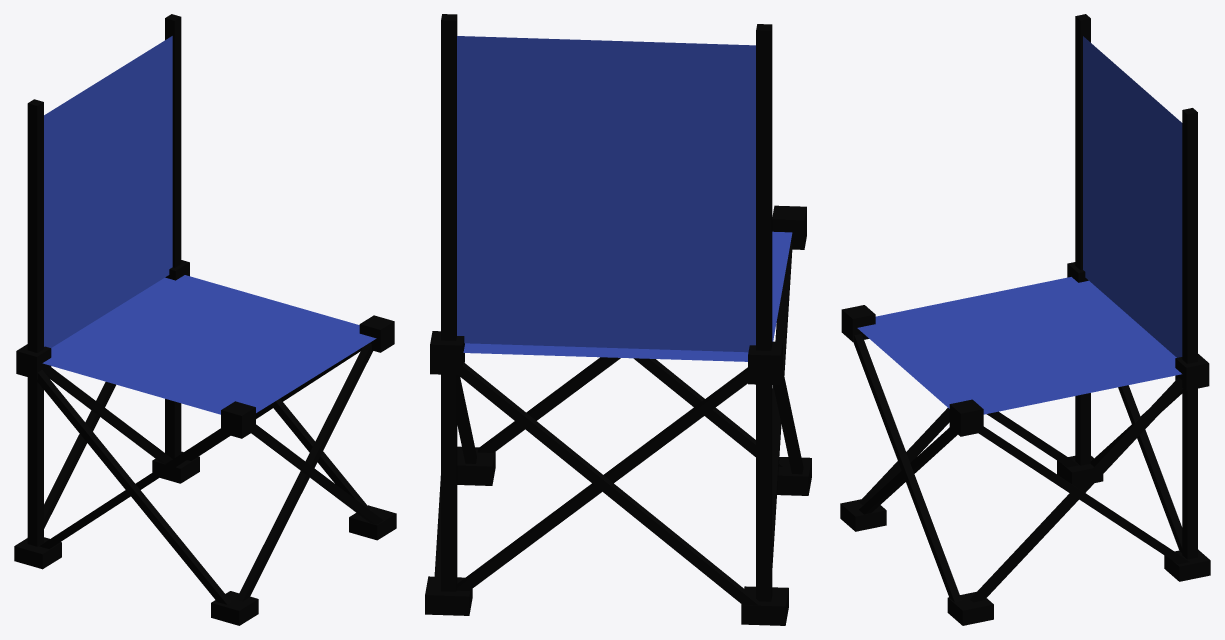
The model's file is foldingChair.glb.
3 renders of one model, left to right at view 1: azimuth 30°, elevation 25°; view 2: azimuth 150°, elevation 25°; view 3: azimuth 270°, elevation 25°, orthographic. The views are drawn at different scales.
Parts seen in each view (by area): view 1: chair; view 2: chair; view 3: chair.
Boxes of the visible parts, left/top/right/bottom form: chair: left=14, top=14, right=396, bottom=625; chair: left=425, top=14, right=811, bottom=625; chair: left=840, top=14, right=1210, bottom=625.
Size of the model in its own units: 0.5882 by 0.7998 by 0.5832.
